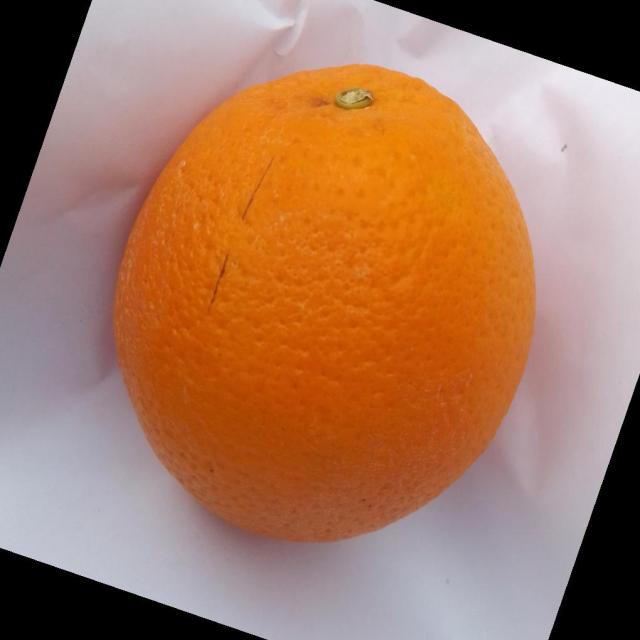fresh orange: (111, 62, 537, 543)
